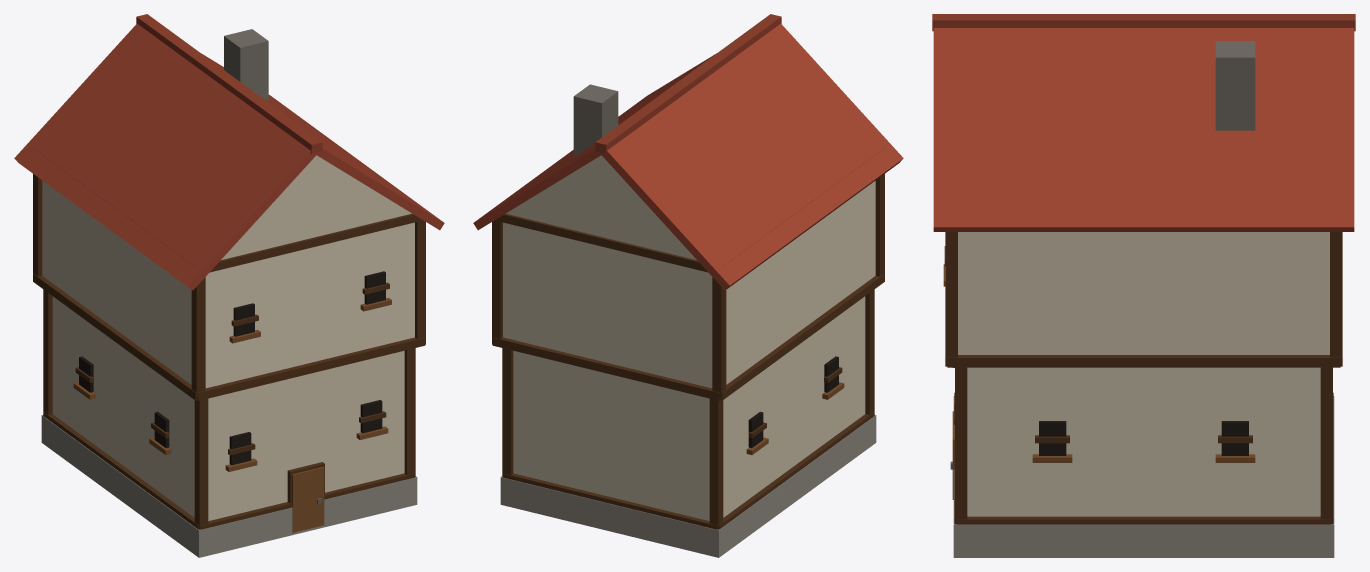
File: house_large_broken.glb
3 renders of one model, left to right at view 1: azimuth 30°, elevation 25°; view 2: azimuth 150°, elevation 25°; view 3: azimuth 270°, elevation 25°, orthographic. The views are drawn at different scales.
Visible parts, largest first — view 1: house_large_piece4, house_large_piece6, house_large_piece1, house_large_piece3, house_large_piece11, house_large_piece2, house_large_piece8, house_large_piece5, house_large_piece12, house_large_piece7; view 2: house_large_piece5, house_large_piece4, house_large_piece8, house_large_piece10, house_large_piece1, house_large_piece6, house_large_piece9, house_large_piece3, house_large_piece11, house_large_piece12, house_large_piece7; view 3: house_large_piece2, house_large_piece0, house_large_piece5, house_large_piece1, house_large_piece13, house_large_piece9.
Part boxes in pixels (<box>): house_large_piece4: <box>33,175,175,540</box>; house_large_piece6: <box>93,140,364,379</box>; house_large_piece1: <box>109,14,407,316</box>; house_large_piece3: <box>87,175,333,557</box>; house_large_piece11: <box>114,230,338,411</box>; house_large_piece2: <box>302,143,444,532</box>; house_large_piece8: <box>14,29,132,231</box>; house_large_piece5: <box>145,14,326,144</box>; house_large_piece12: <box>149,377,201,557</box>; house_large_piece7: <box>64,175,201,557</box>; house_large_piece5: <box>473,84,658,386</box>; house_large_piece4: <box>682,231,853,557</box>; house_large_piece8: <box>602,155,765,421</box>; house_large_piece10: <box>545,345,716,557</box>; house_large_piece1: <box>598,14,789,198</box>; house_large_piece6: <box>729,34,852,241</box>; house_large_piece9: <box>492,338,642,539</box>; house_large_piece3: <box>763,212,876,434</box>; house_large_piece11: <box>809,103,903,297</box>; house_large_piece12: <box>815,342,875,459</box>; house_large_piece7: <box>762,225,876,442</box>; house_large_piece2: <box>933,123,1102,557</box>; house_large_piece0: <box>1084,149,1258,557</box>; house_large_piece5: <box>1063,19,1355,358</box>; house_large_piece1: <box>932,14,1355,268</box>; house_large_piece13: <box>1249,270,1315,557</box>; house_large_piece9: <box>1293,314,1342,557</box>.
Bounding box in the file's own units: 2.35 × 3.45 × 2.78.
